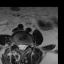CCS_normal: (21, 41, 23, 53)
LFS_normal: (26, 41, 29, 49)
LLS_normal: (23, 41, 26, 51)
RFS_normal: (15, 40, 18, 48)
RLS_normal: (18, 41, 21, 51)
